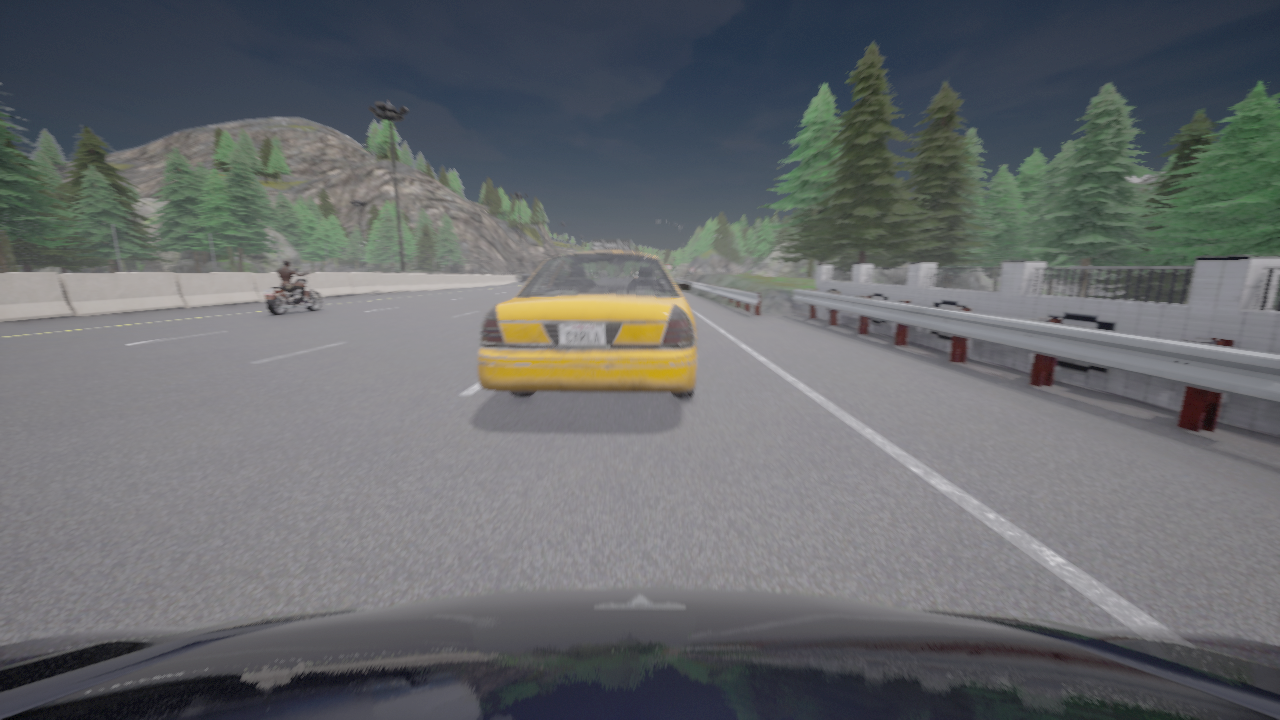cyclist: (0, 588, 1279, 719), (477, 240, 697, 398), (264, 272, 322, 315)
